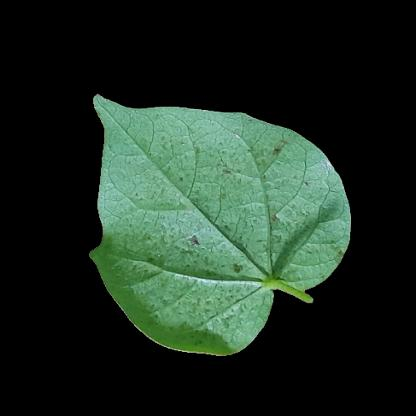healthy: (119, 127, 269, 307), (269, 154, 343, 252)
